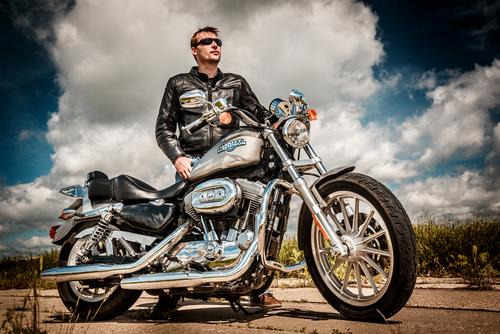nohelmet: (189, 26, 223, 66)
